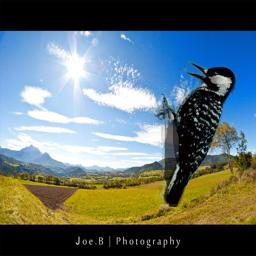Woodpecker: (153, 60, 239, 207)
